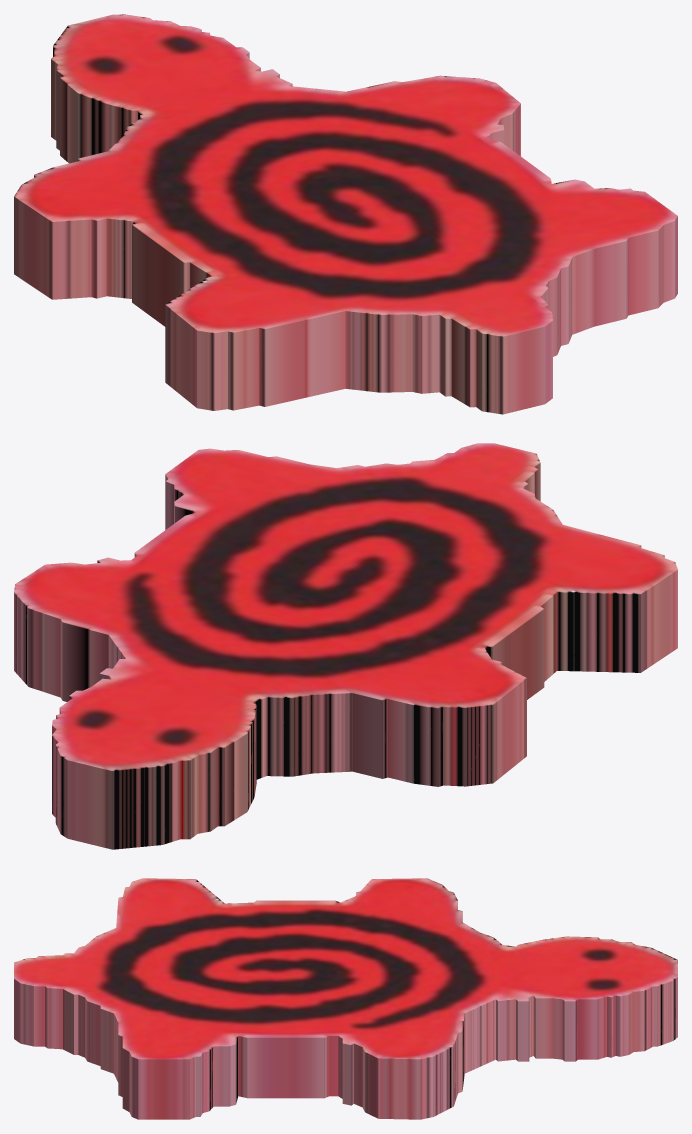
File: zolwCzerwony.gltf
The picture shows the model from 3 angles, top to bottom: view 1: azimuth 30°, elevation 25°; view 2: azimuth 150°, elevation 25°; view 3: azimuth 270°, elevation 25°; orthographic projection. The views are drawn at different scales.
Bounding box in the file's own units: 4.9 × 0.762 × 7.59.
Materials: 1 (1 with a texture image).
